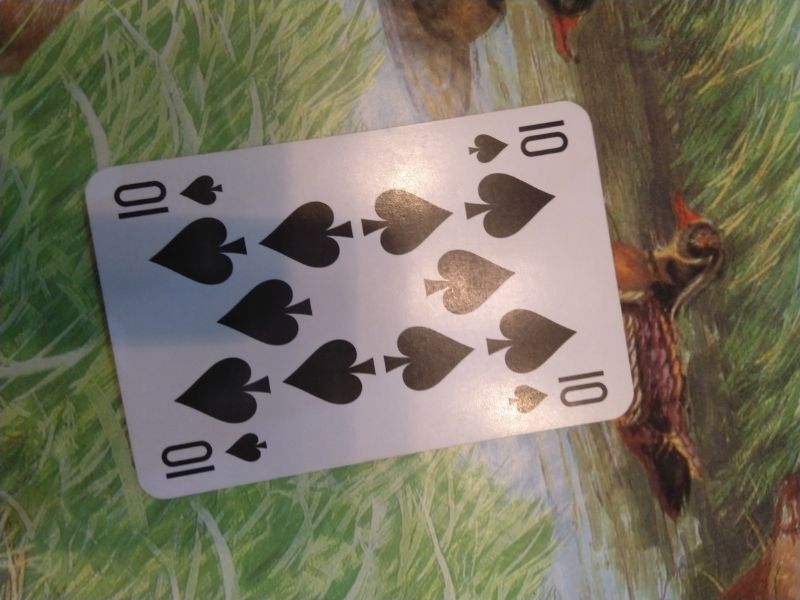Ts: (158, 426, 273, 484), (111, 171, 226, 222), (462, 115, 570, 168), (502, 368, 611, 418)
